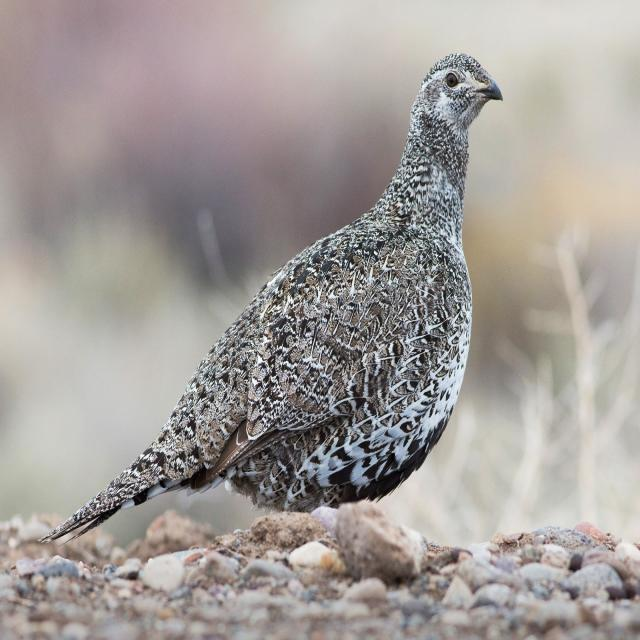bird: (37, 51, 506, 555)
